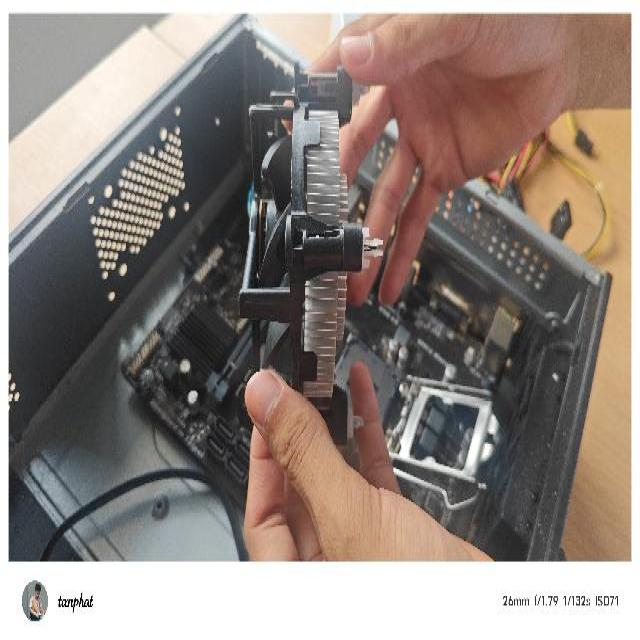CPU_Fan: (238, 52, 386, 456)
